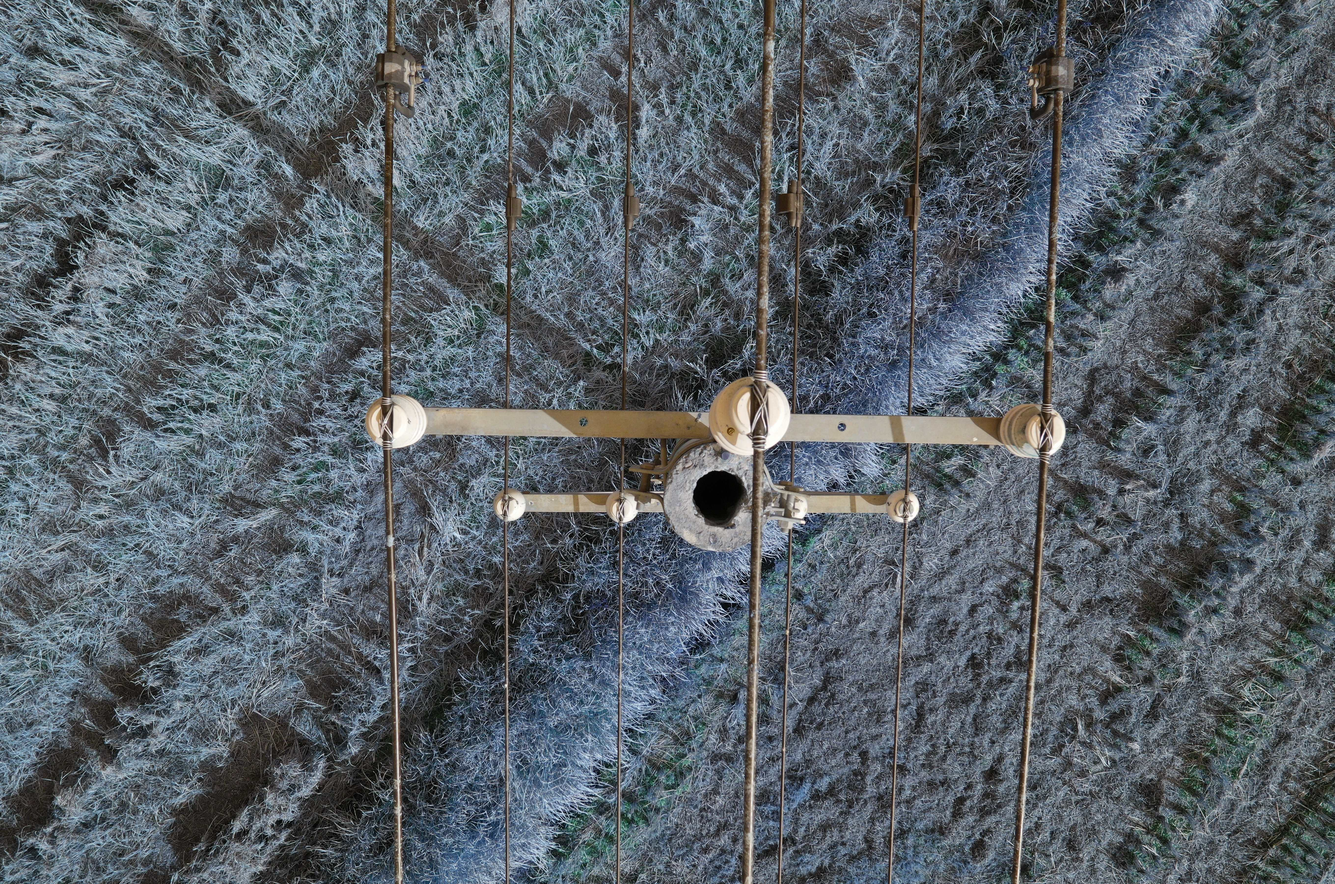severe_soiling_no_discharge_whole: (995, 402, 1072, 461)
